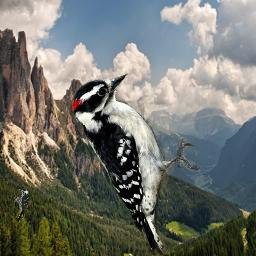Woodpecker: (70, 73, 203, 255), (14, 189, 29, 223)
